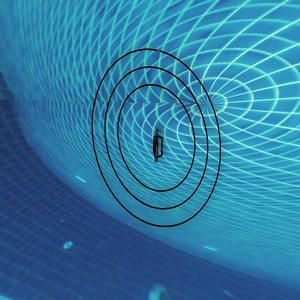circle: (71, 27, 220, 228)
submarine: (149, 130, 163, 168)
